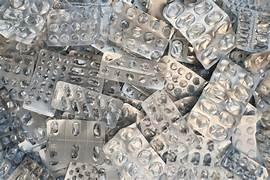pill_Strip: (188, 59, 256, 140), (23, 49, 102, 116), (163, 0, 234, 68), (108, 1, 172, 58), (103, 124, 164, 178), (51, 81, 122, 126), (46, 119, 104, 163), (99, 52, 163, 88), (47, 5, 99, 45), (159, 56, 205, 98), (142, 90, 181, 131), (0, 55, 35, 100), (221, 146, 267, 179), (236, 8, 269, 51)
